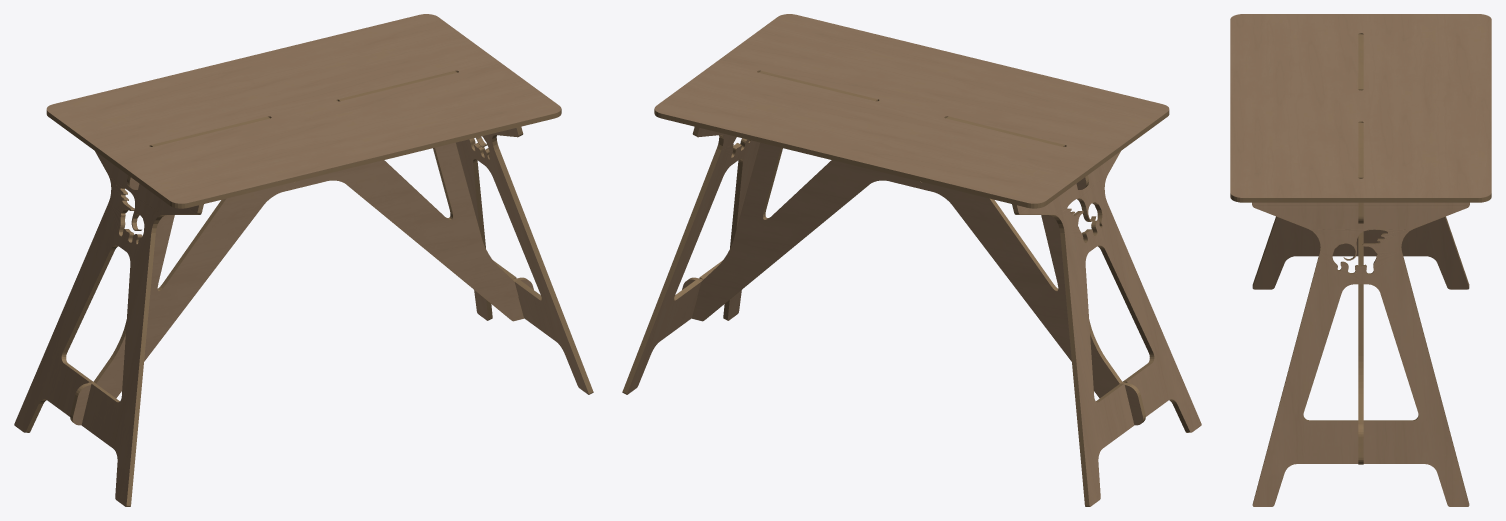
The model's file is 02_wfh_desk.glb.
3 views of the same model, side by side, from view 1: azimuth 30°, elevation 25°; view 2: azimuth 150°, elevation 25°; view 3: azimuth 270°, elevation 25° (orthographic). The views are drawn at different scales.
Visible parts, largest first — view 1: 02_wfh_desk; view 2: 02_wfh_desk; view 3: 02_wfh_desk.
Boxes of the visible parts, box(x1,y1,x2,y2) form: 02_wfh_desk: box(14, 14, 593, 506); 02_wfh_desk: box(622, 14, 1201, 506); 02_wfh_desk: box(1230, 14, 1491, 506).
Bounding box in the file's own units: 1.2 × 0.7396 × 0.6.
Materials: 1 (1 with a texture image).
